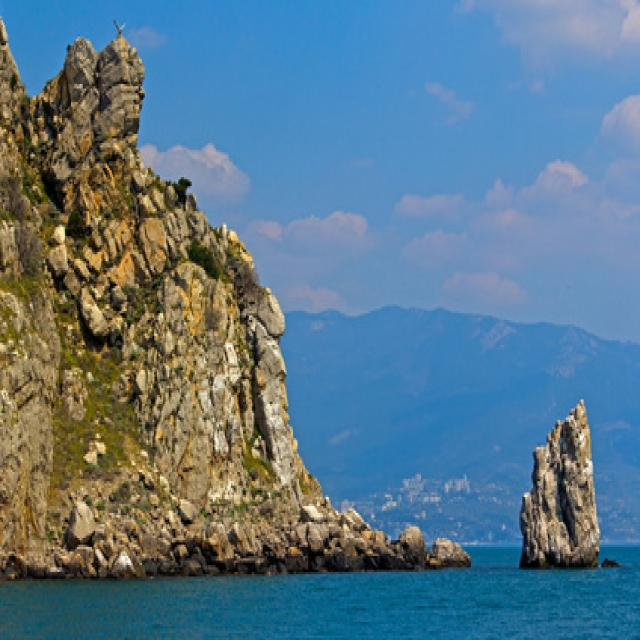reef: (510, 400, 612, 556)
